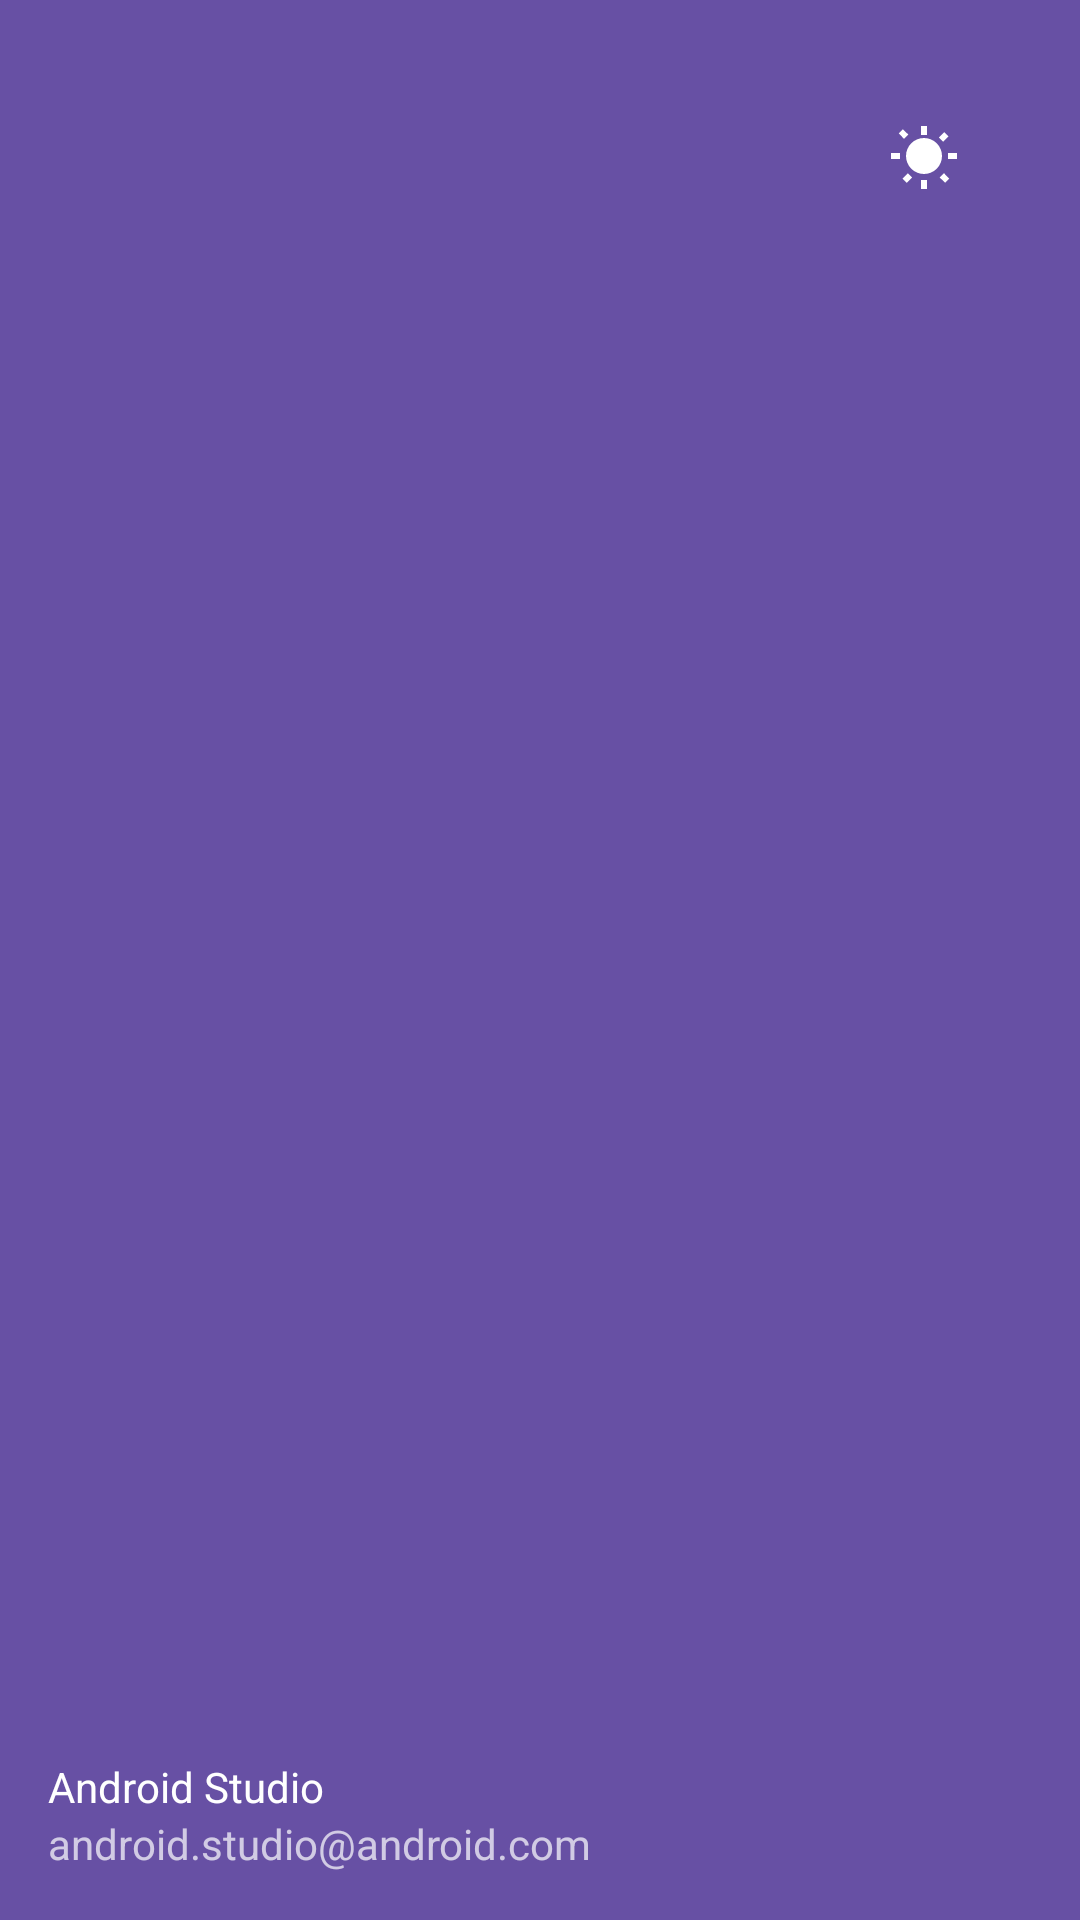

Icons on this 1080*1920 Android screen, each with its box as [left=x1, top=y1, right=x2, bottom=y2]:
Toggle Theme: [left=891, top=126, right=957, bottom=189]
